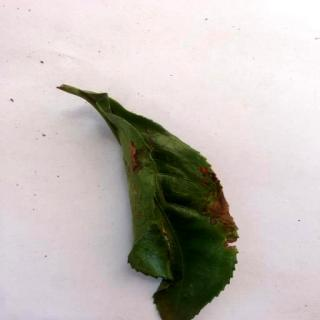Algal Leaf: (57, 81, 242, 320)
